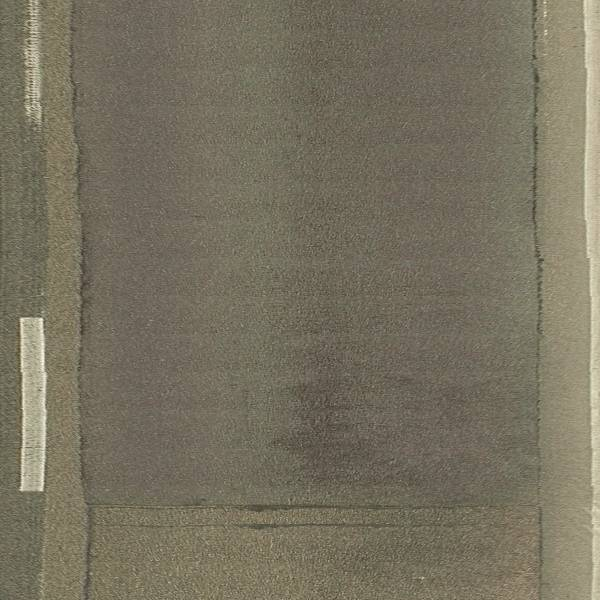road_damage: (265, 371, 405, 489), (71, 494, 553, 520)
